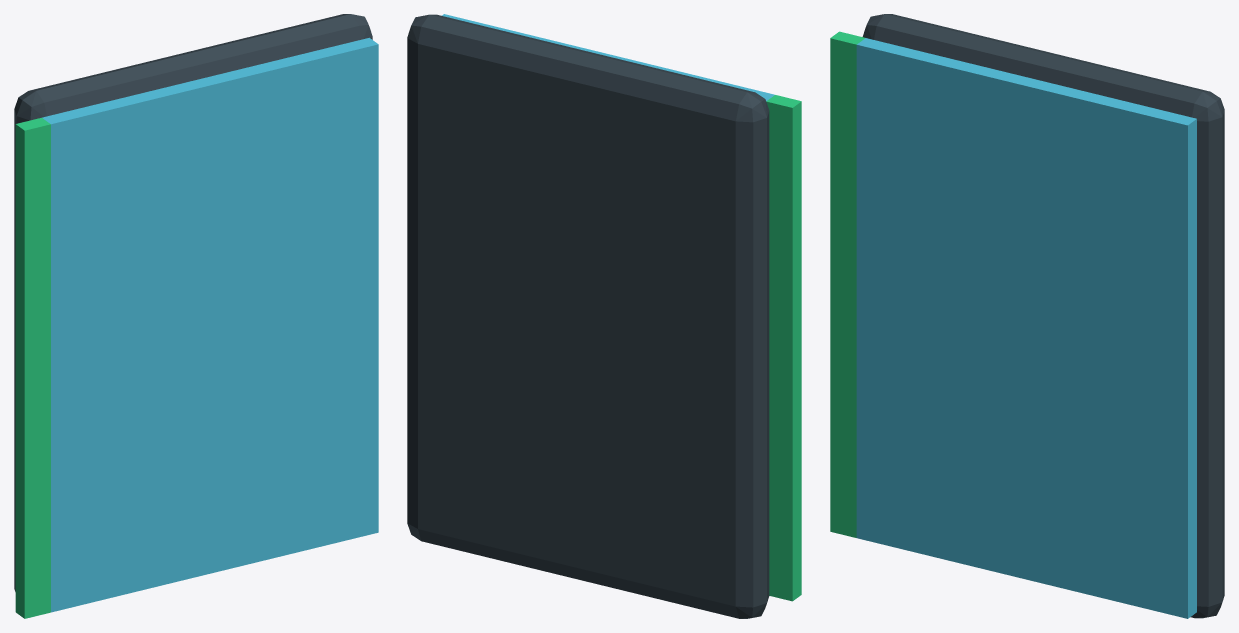
The model's file is CC_S16_P2_Product_NeonDrift_LOD0.fbx.
3 renders of one model, left to right at view 1: azimuth 30°, elevation 25°; view 2: azimuth 150°, elevation 25°; view 3: azimuth 330°, elevation 25°, orthographic.
Visible parts, largest first — view 1: CC_S16_P2_Product_NeonDrift_LOD0_CoverSleeve, CC_S16_P2_Product_NeonDrift_LOD0_Spine, CC_S16_P2_Product_NeonDrift_LOD0_Case; view 2: CC_S16_P2_Product_NeonDrift_LOD0_Case, CC_S16_P2_Product_NeonDrift_LOD0_Spine, CC_S16_P2_Product_NeonDrift_LOD0_CoverSleeve; view 3: CC_S16_P2_Product_NeonDrift_LOD0_CoverSleeve, CC_S16_P2_Product_NeonDrift_LOD0_Case, CC_S16_P2_Product_NeonDrift_LOD0_Spine.
Part boxes in pixels (bbox=[...]): CC_S16_P2_Product_NeonDrift_LOD0_CoverSleeve: bbox=[42, 37, 378, 612]; CC_S16_P2_Product_NeonDrift_LOD0_Spine: bbox=[15, 117, 50, 618]; CC_S16_P2_Product_NeonDrift_LOD0_Case: bbox=[14, 14, 372, 591]; CC_S16_P2_Product_NeonDrift_LOD0_Case: bbox=[407, 14, 769, 618]; CC_S16_P2_Product_NeonDrift_LOD0_Spine: bbox=[766, 95, 801, 601]; CC_S16_P2_Product_NeonDrift_LOD0_CoverSleeve: bbox=[442, 14, 774, 101]; CC_S16_P2_Product_NeonDrift_LOD0_CoverSleeve: bbox=[856, 38, 1196, 618]; CC_S16_P2_Product_NeonDrift_LOD0_Case: bbox=[862, 14, 1224, 618]; CC_S16_P2_Product_NeonDrift_LOD0_Spine: bbox=[830, 31, 865, 537].
Size of what is drawn, in the model's own units: 0.14 by 0.19 by 0.0215.
